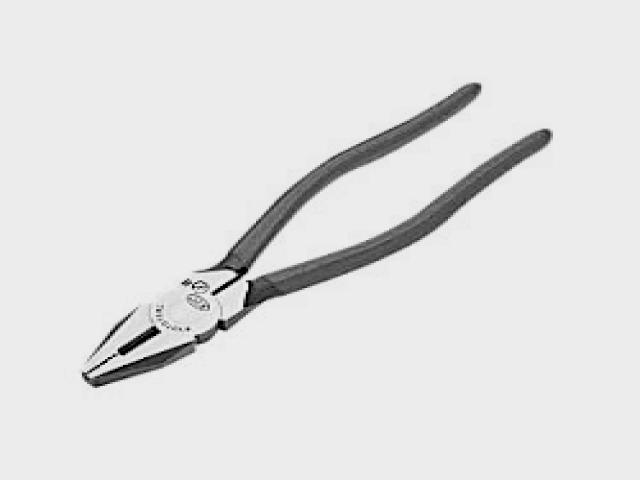Pliers: (82, 84, 550, 386)
